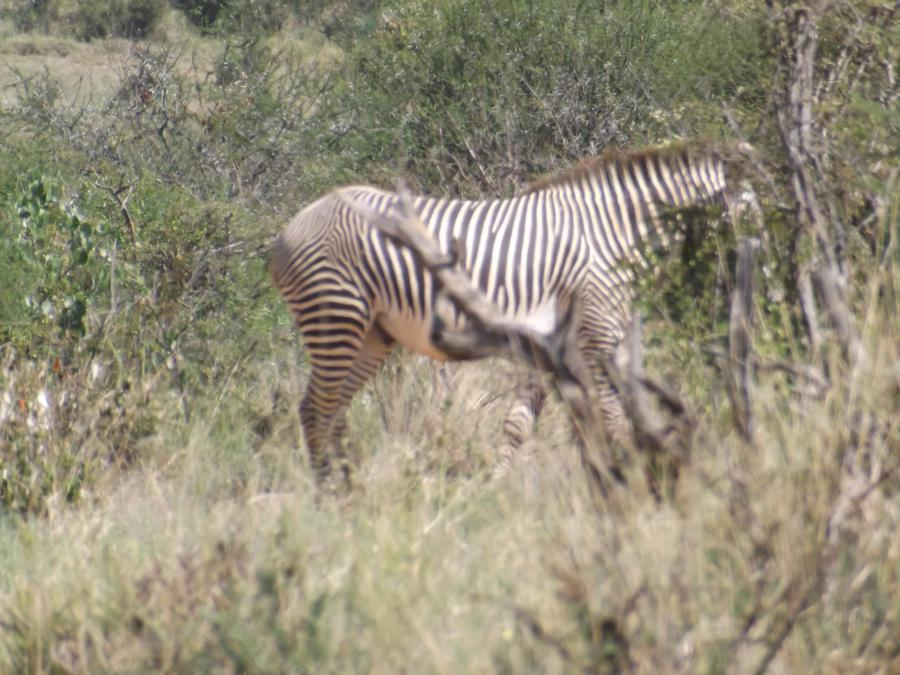zebra_grevys: (270, 159, 637, 337)
